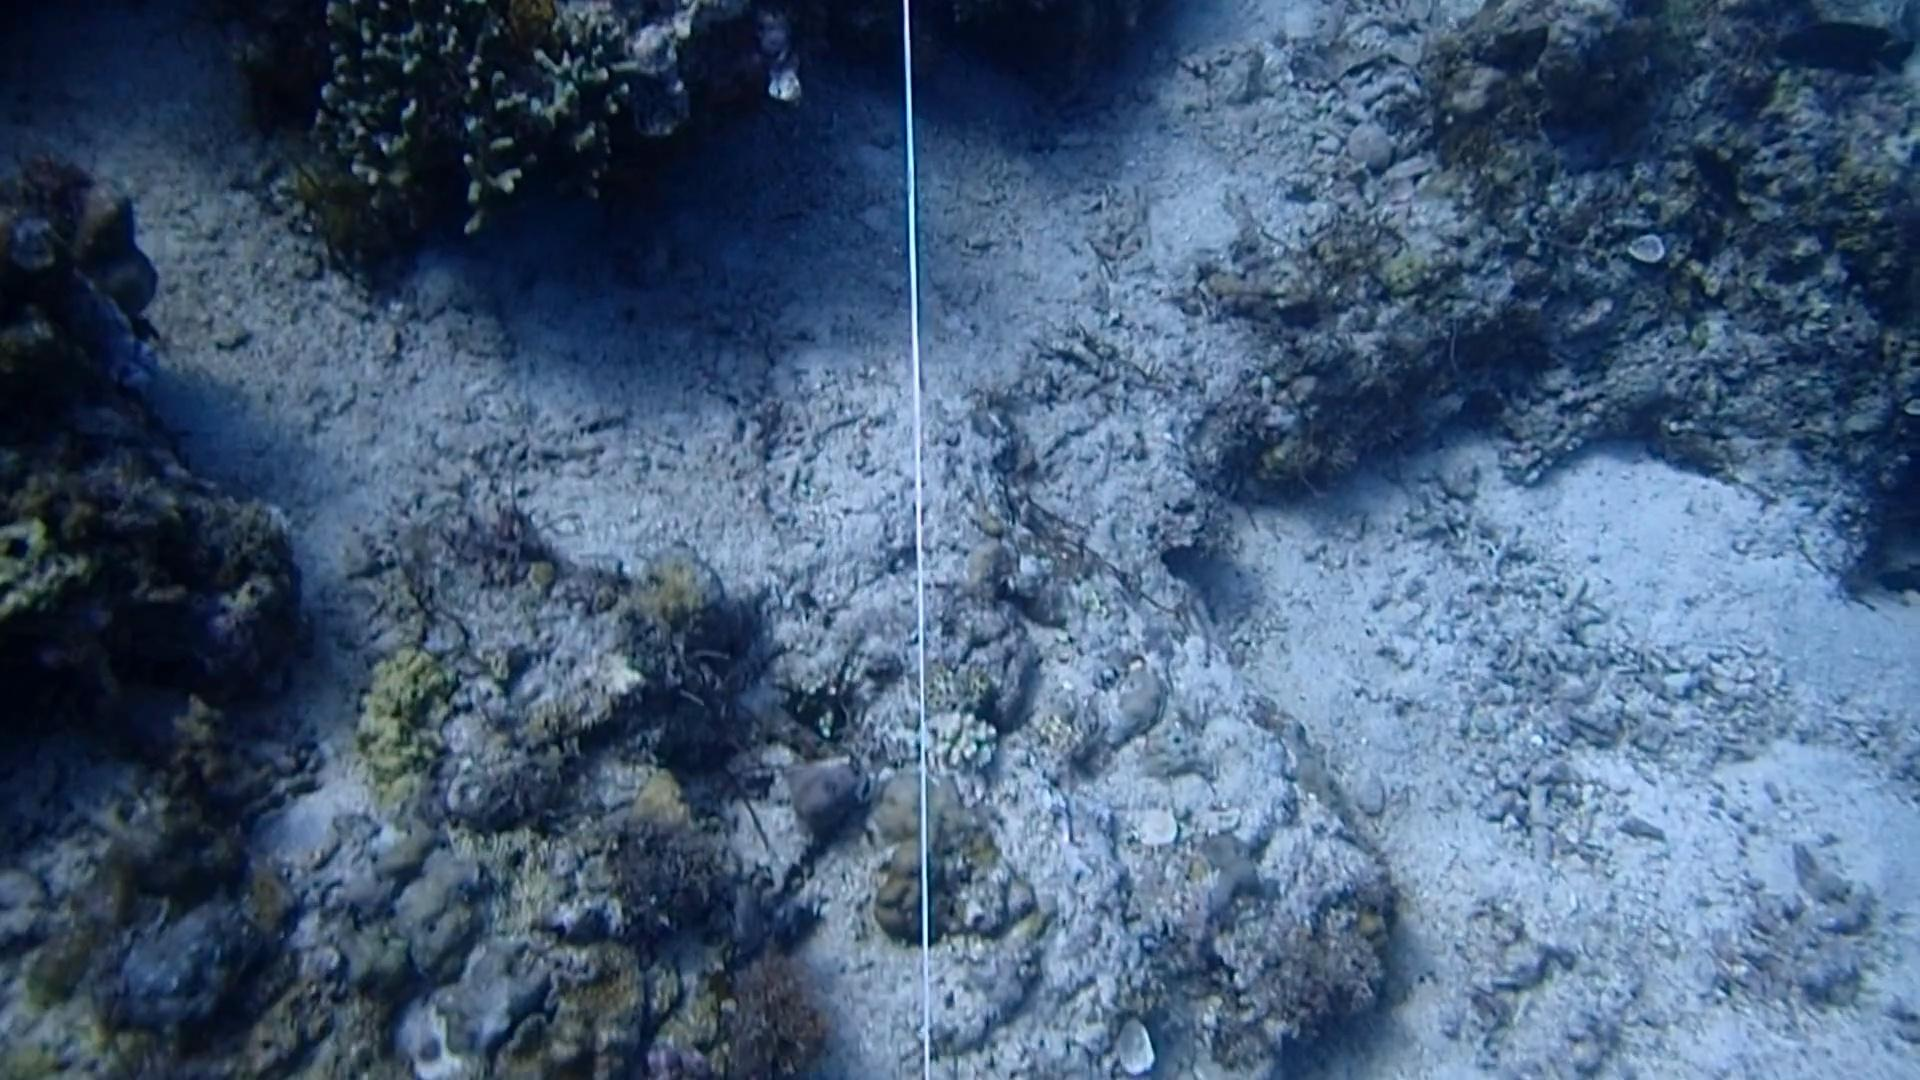Dark Fish: (1764, 5, 1919, 88), (1680, 128, 1763, 224)
